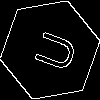U: (25, 25, 79, 75)
